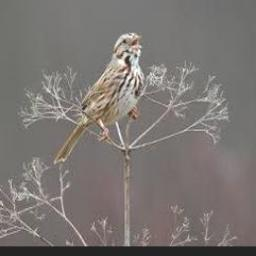Sparrow: (53, 32, 146, 165)
